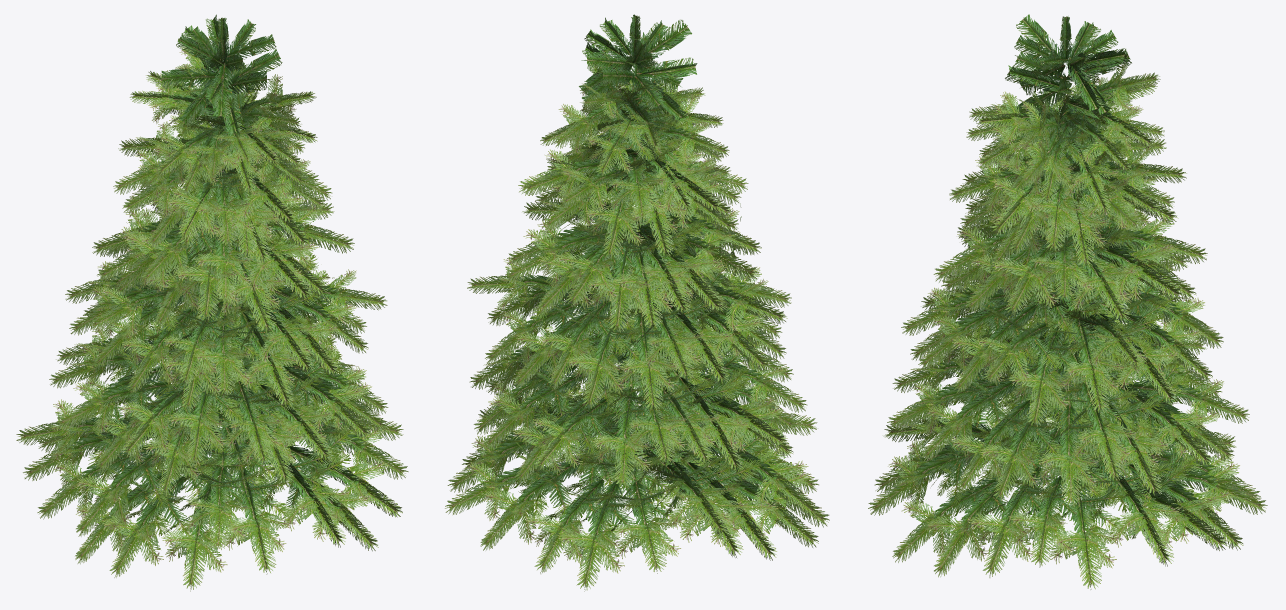
The model's file is tree.obj.
3 views of the same model, side by side, from view 1: azimuth 30°, elevation 25°; view 2: azimuth 150°, elevation 25°; view 3: azimuth 270°, elevation 25° (orthographic). The views are drawn at different scales.
Parts seen in each view (by area): view 1: tree; view 2: tree; view 3: tree.
Boxes of the visible parts, <box> form: tree: <box>16,14,408,591</box>; tree: <box>445,14,829,591</box>; tree: <box>868,14,1267,589</box>.
Bounding box in the file's own units: 25.83 × 36.56 × 25.97.
